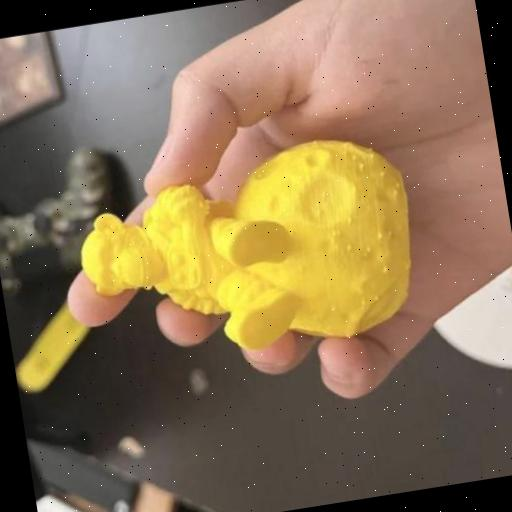blobs: (310, 205, 325, 219), (355, 160, 368, 173), (364, 148, 377, 161), (374, 228, 385, 242), (330, 228, 342, 240), (376, 167, 388, 178), (344, 214, 354, 226), (364, 244, 374, 254), (380, 264, 389, 275), (327, 302, 339, 310), (358, 296, 367, 306), (350, 151, 358, 162), (345, 242, 355, 250), (360, 249, 368, 258), (372, 293, 380, 302)
